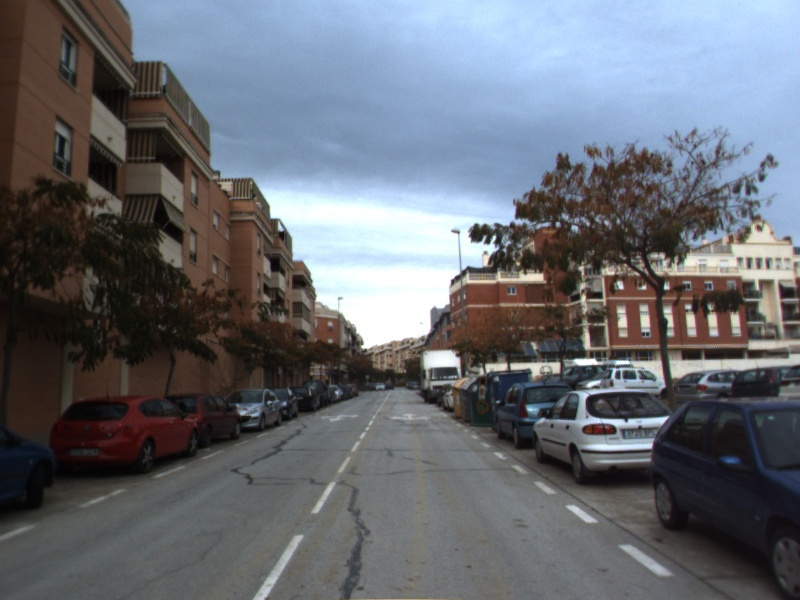STRAIGHT_LEFT_RIGHT: (387, 411, 434, 423)
